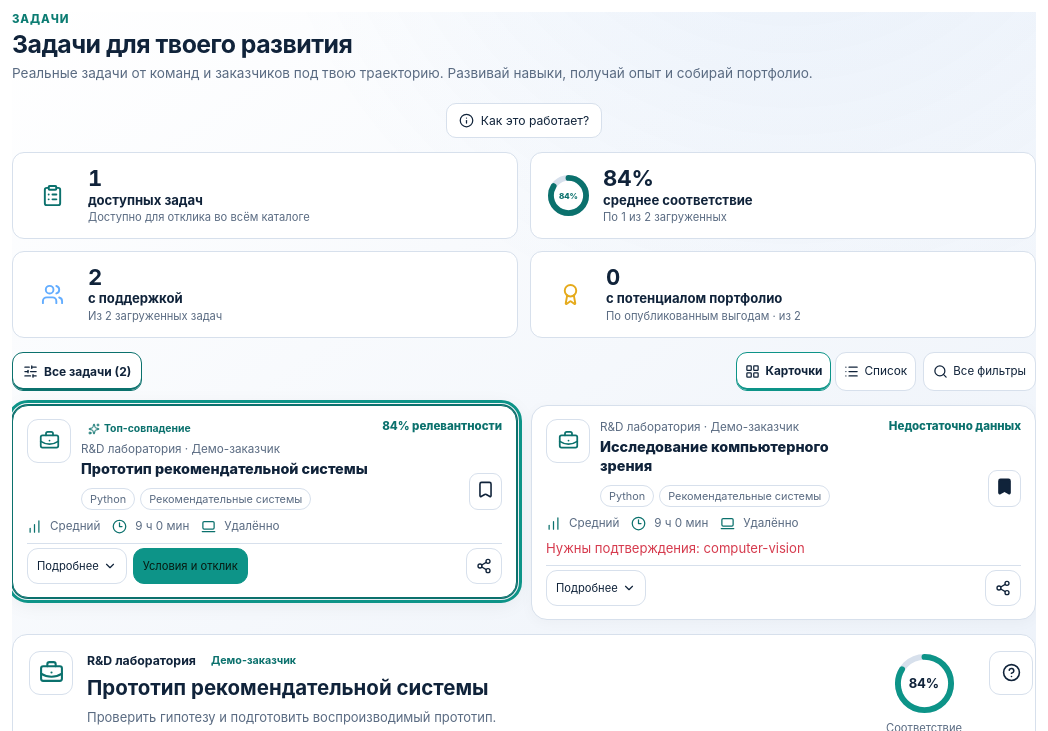
task catalog v2 › persists a bookmark through the CSRF-protected server mutation
The width and height of the screenshot is (1048, 731).
Expected: the heading "Прототип рекомендательной системы" below "Топ-совпадение" is shown, [81,460,368,477]
Click the button named "Сохранить".
click(486, 491)  # box [469,473,502,510]
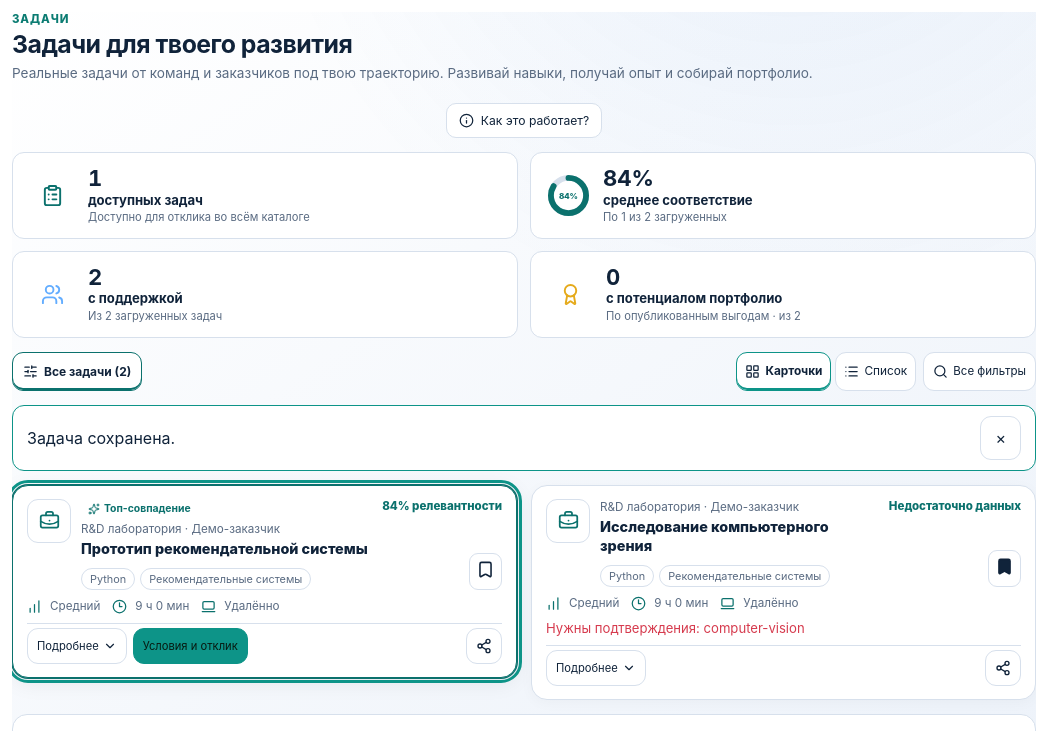
Now the text "Задача сохранена. ×" is shown, box [12,405,1036,471]
